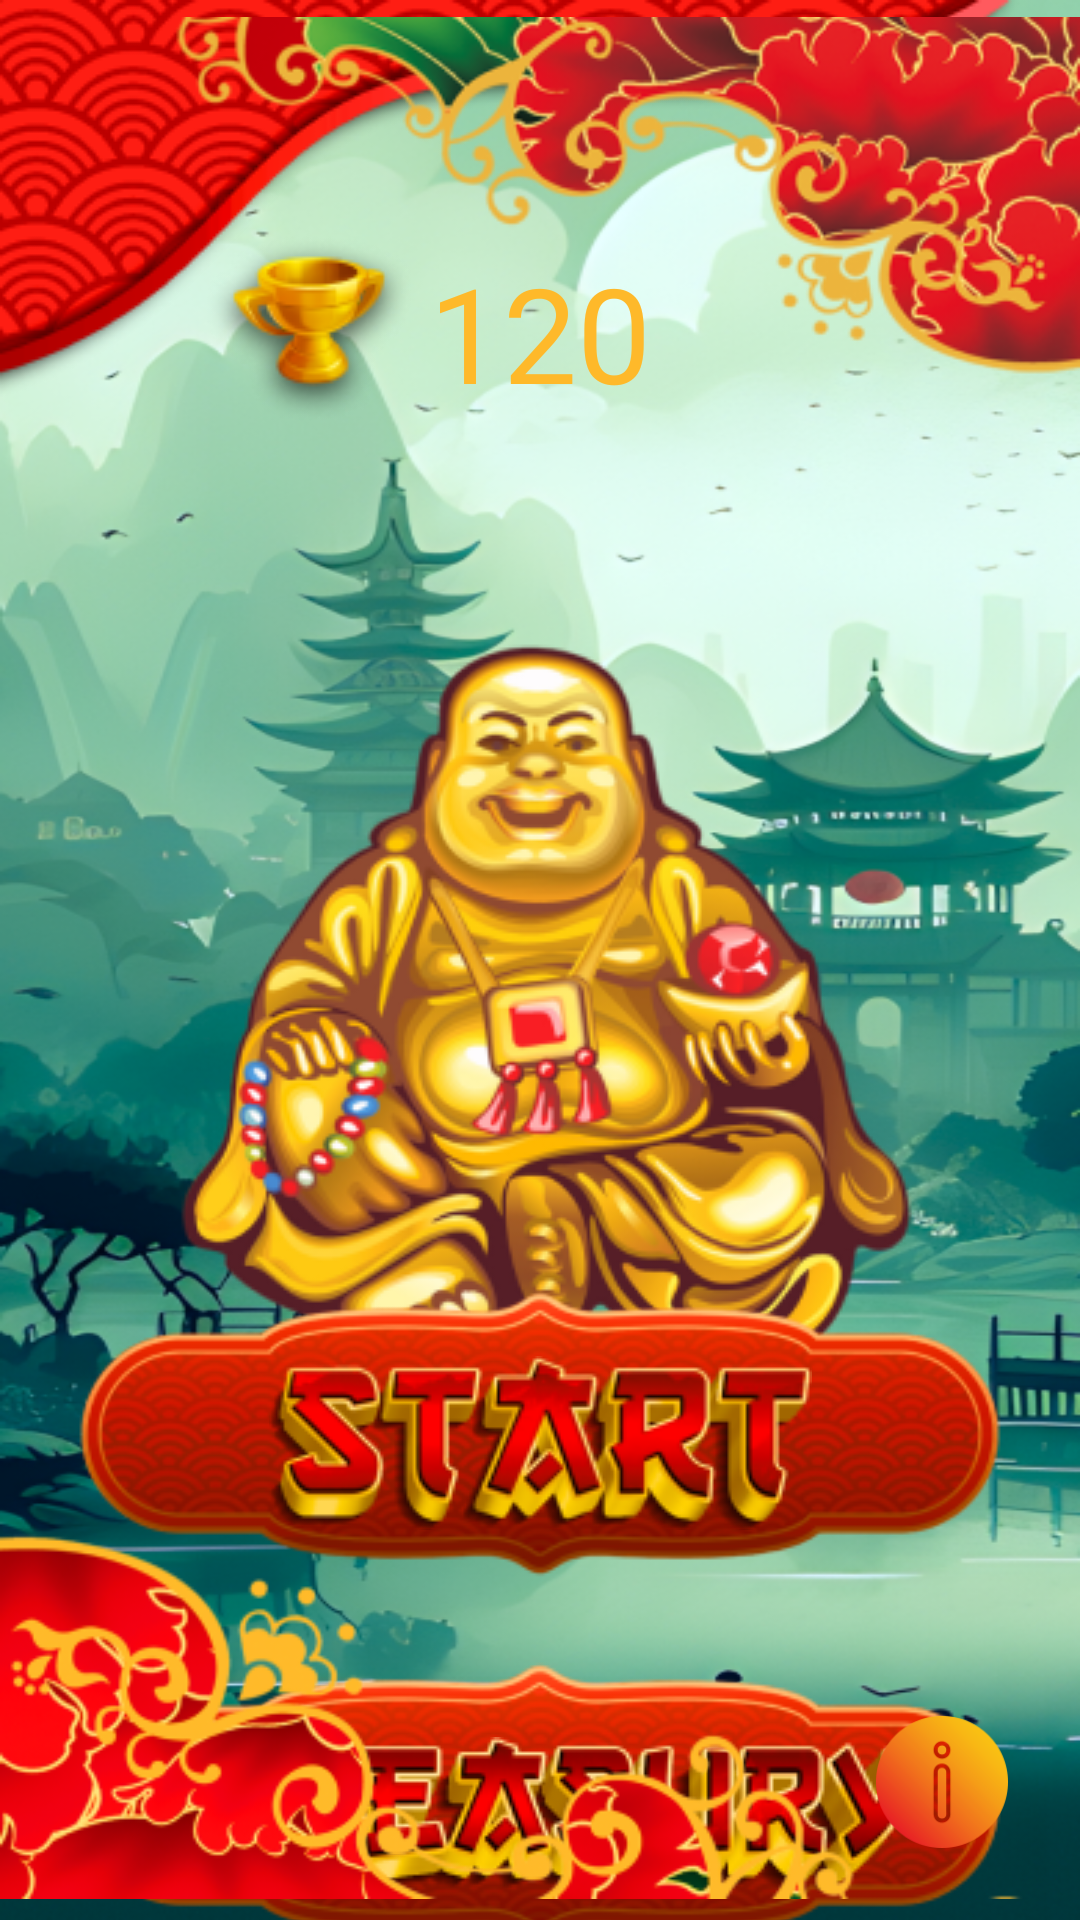

Where to tap for icons on this 1080x1920 app screen, as [x,y]:
info: [942,1782]
